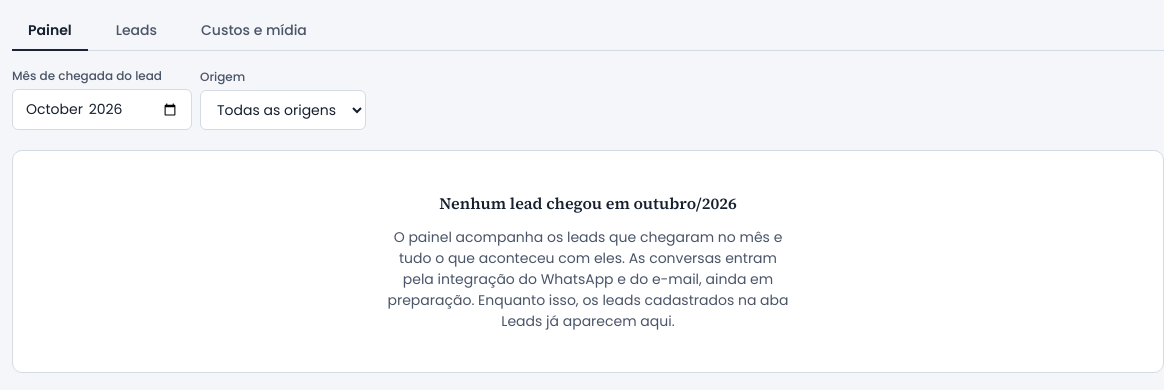
painel › vazio por filtro oferece limpar o filtro
The width and height of the screenshot is (1164, 390).
Expected: the heading "Nenhum lead chegou em outubro/2026" is shown, [439,191,737,215]
Step 1. Select "Leads frios" in the dropdown labelled "Origem" → (283,110), box [200,90,366,130]
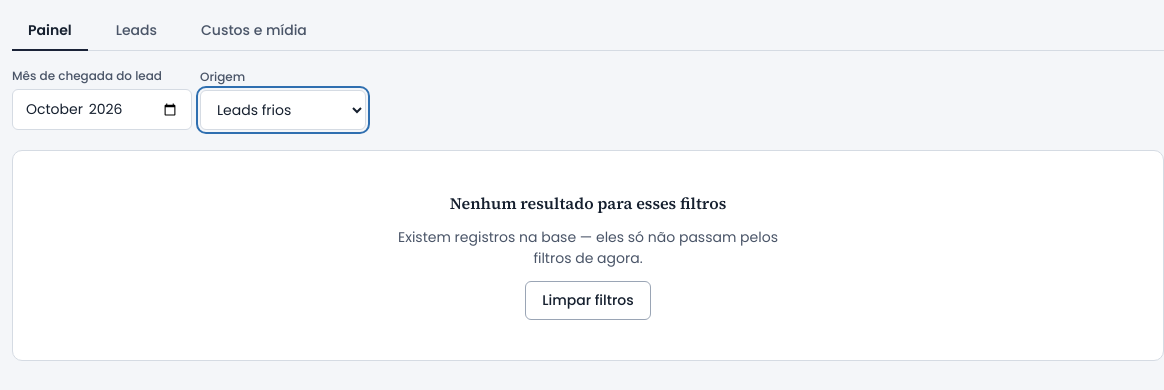
Result: the button "Limpar filtros" is shown at [525,281,651,320]
